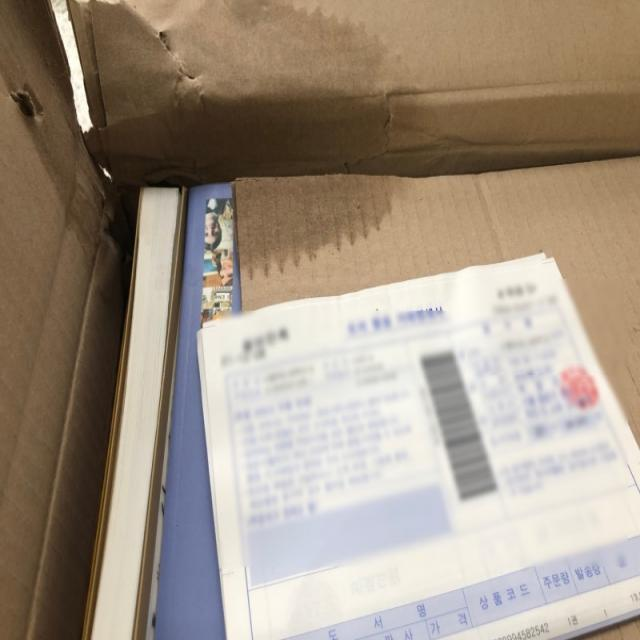wet: (238, 177, 417, 284)
